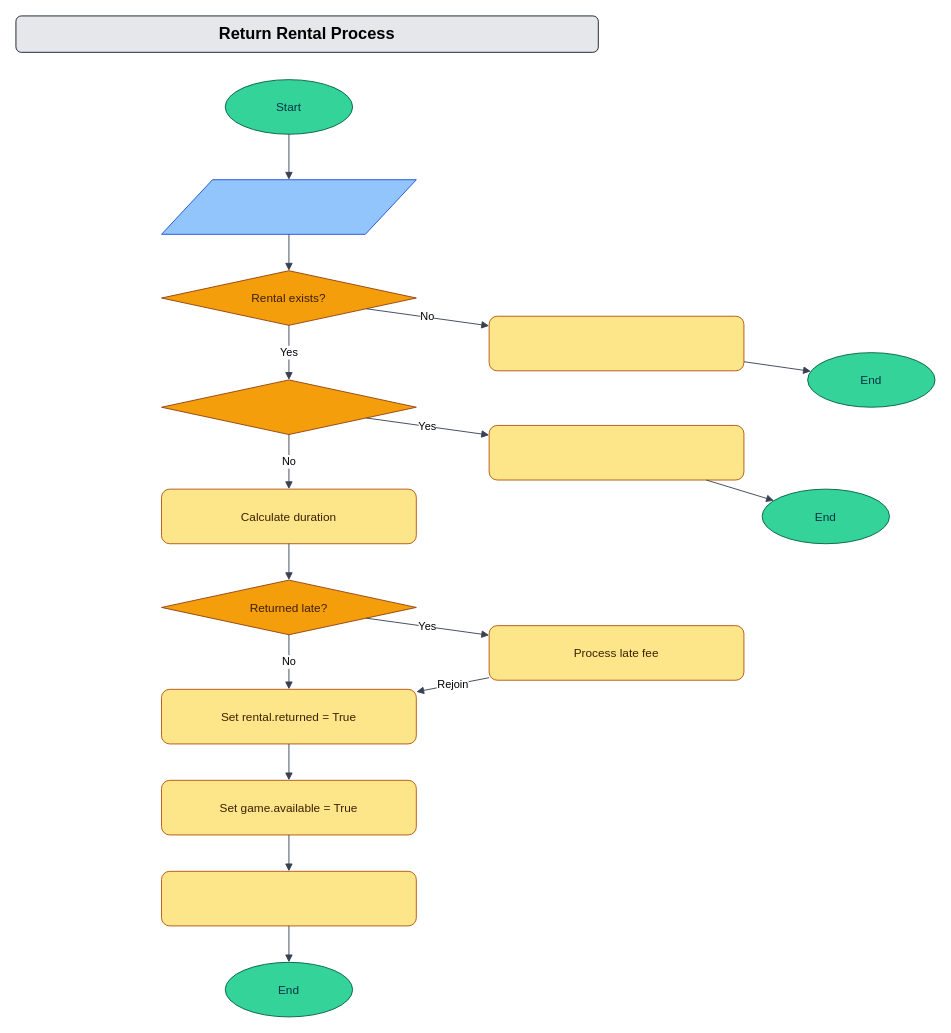
Image size: 951x1033. Some labels were removed from this diagram. The shapes that lost their labels are listed below. From the top down, each one's centre as x and y in pixels, then its label:
At point (288, 206): "Receive rental_id (JSON)".
At point (616, 343): "Return error JSON ('Rental not found')".
At point (288, 407): "Already returned?".
At point (616, 452): "Return error JSON ('Rental already returned')".
At point (288, 898): "Return success JSON".
